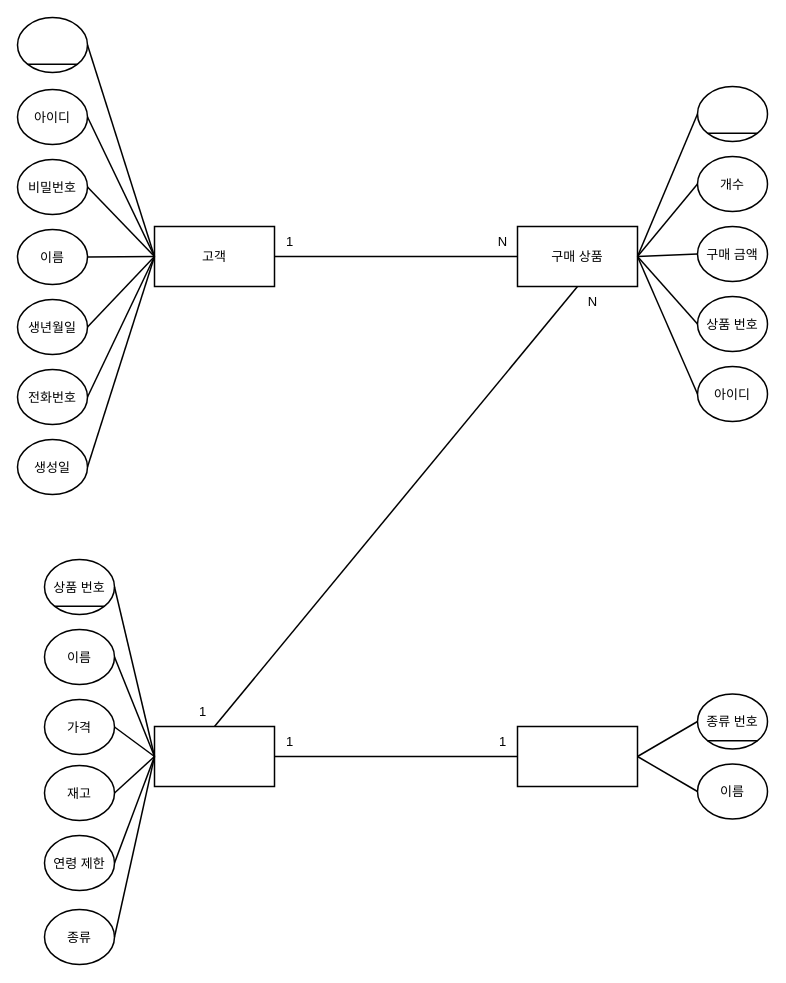
Image size: 786x983. Some labels were removed from this diagram. Each missing label, with the centre of its shape:
"고객 번호" belongs at point 52,44.
"구매 번호" belongs at point 732,113.
"상품" belongs at point 214,756.
"상품 종류" belongs at point 577,756.
